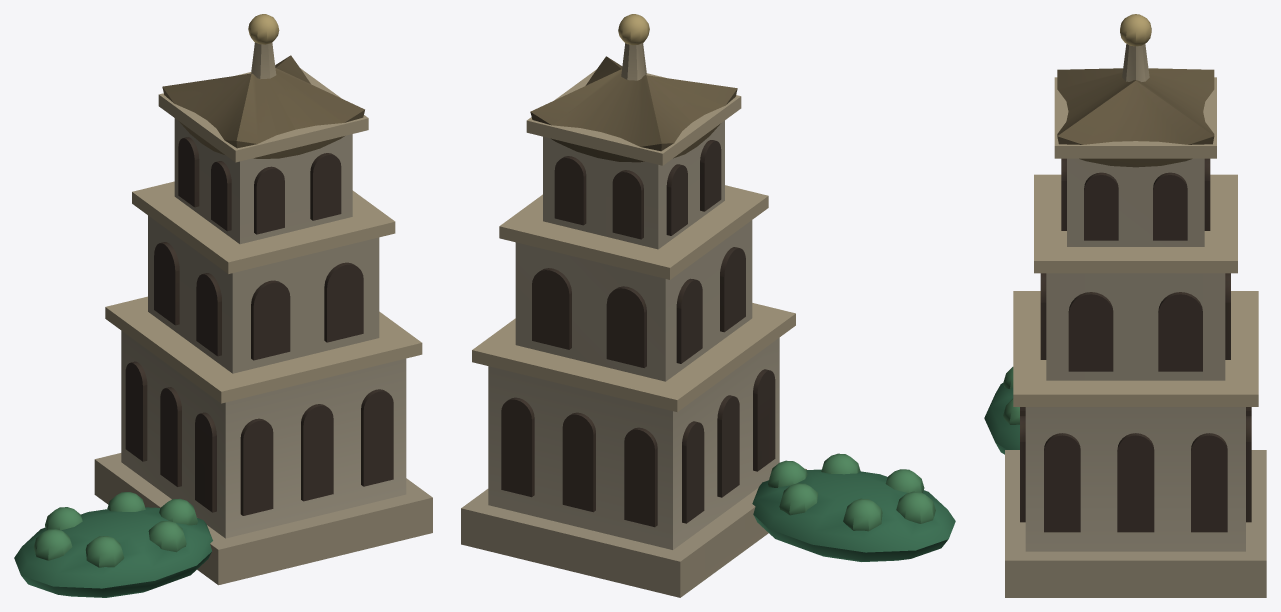
Rendered from lm-turtle.glb.
3 views of the same model, side by side, from view 1: azimuth 30°, elevation 25°; view 2: azimuth 150°, elevation 25°; view 3: azimuth 270°, elevation 25° (orthographic). The views are drawn at different scales.
Bounding box in the file's own units: 3.39 × 4.22 × 2.05.
